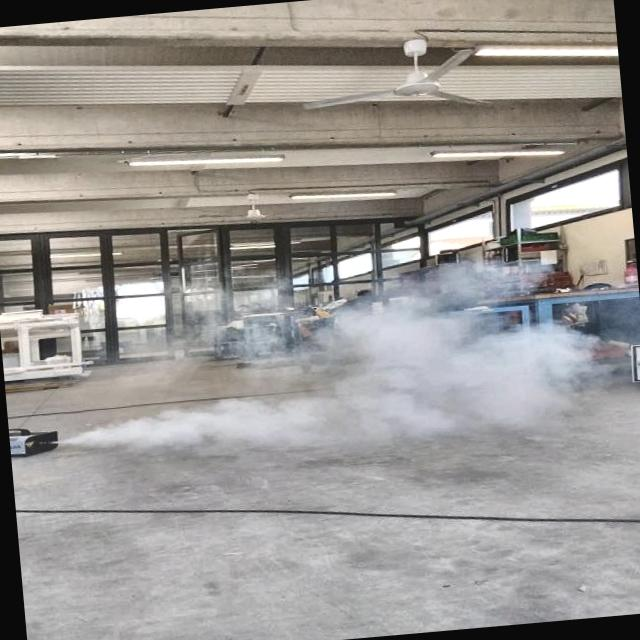smoke: (35, 246, 606, 499)
